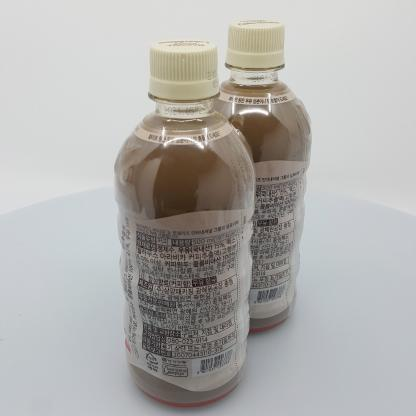------------------500ML: (113, 39, 256, 408), (197, 19, 312, 333)
